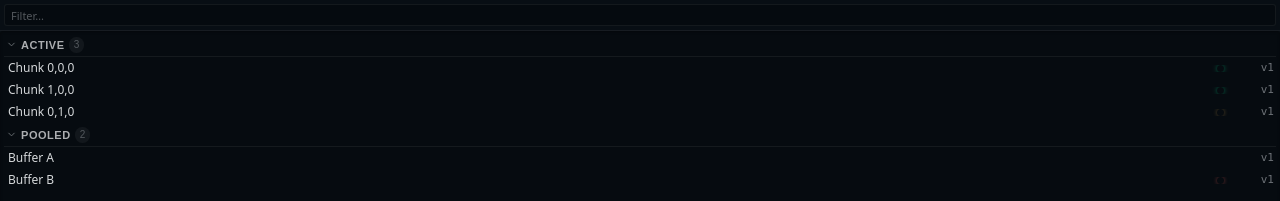
Scenario: TreeList — filter › shows all rows when filter is cleared
Type "Buffer" into the search field with placeholder "Filter…" at (640, 15), box [4, 4, 1276, 26]
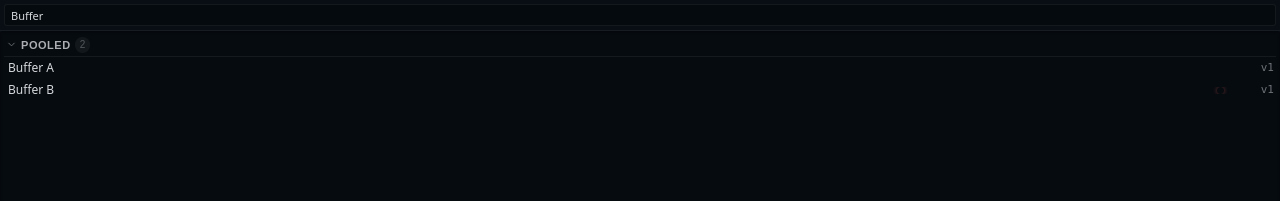
Clear the search field named "Filter rows" at (640, 15), box [4, 4, 1276, 26]
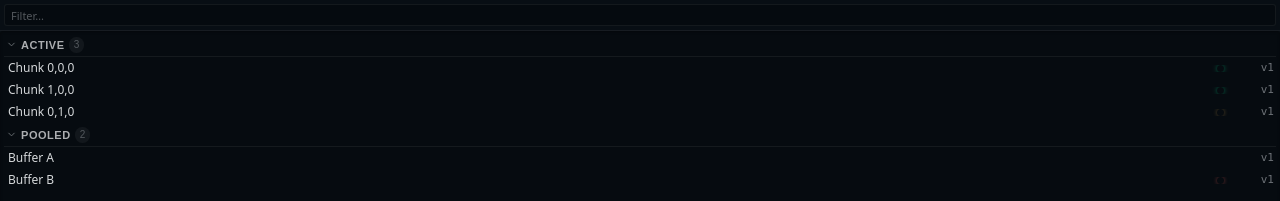
Expected: the text "Buffer A" is shown, [8, 149, 54, 166]
Expected: the text "Chunk 0,0,0" is shown, [8, 59, 74, 76]
